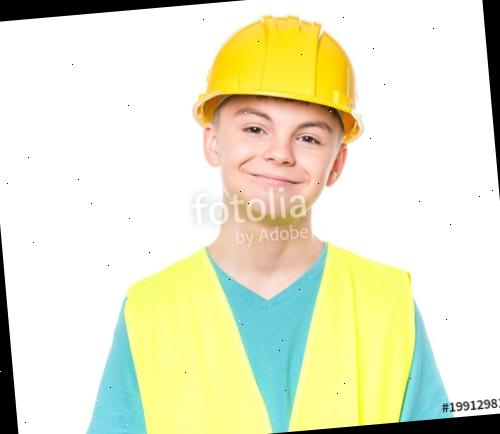helmet: (179, 7, 367, 158)
wear: (104, 233, 442, 434)
